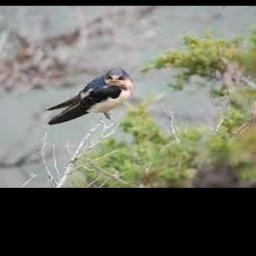Swallow: (45, 68, 132, 124)
